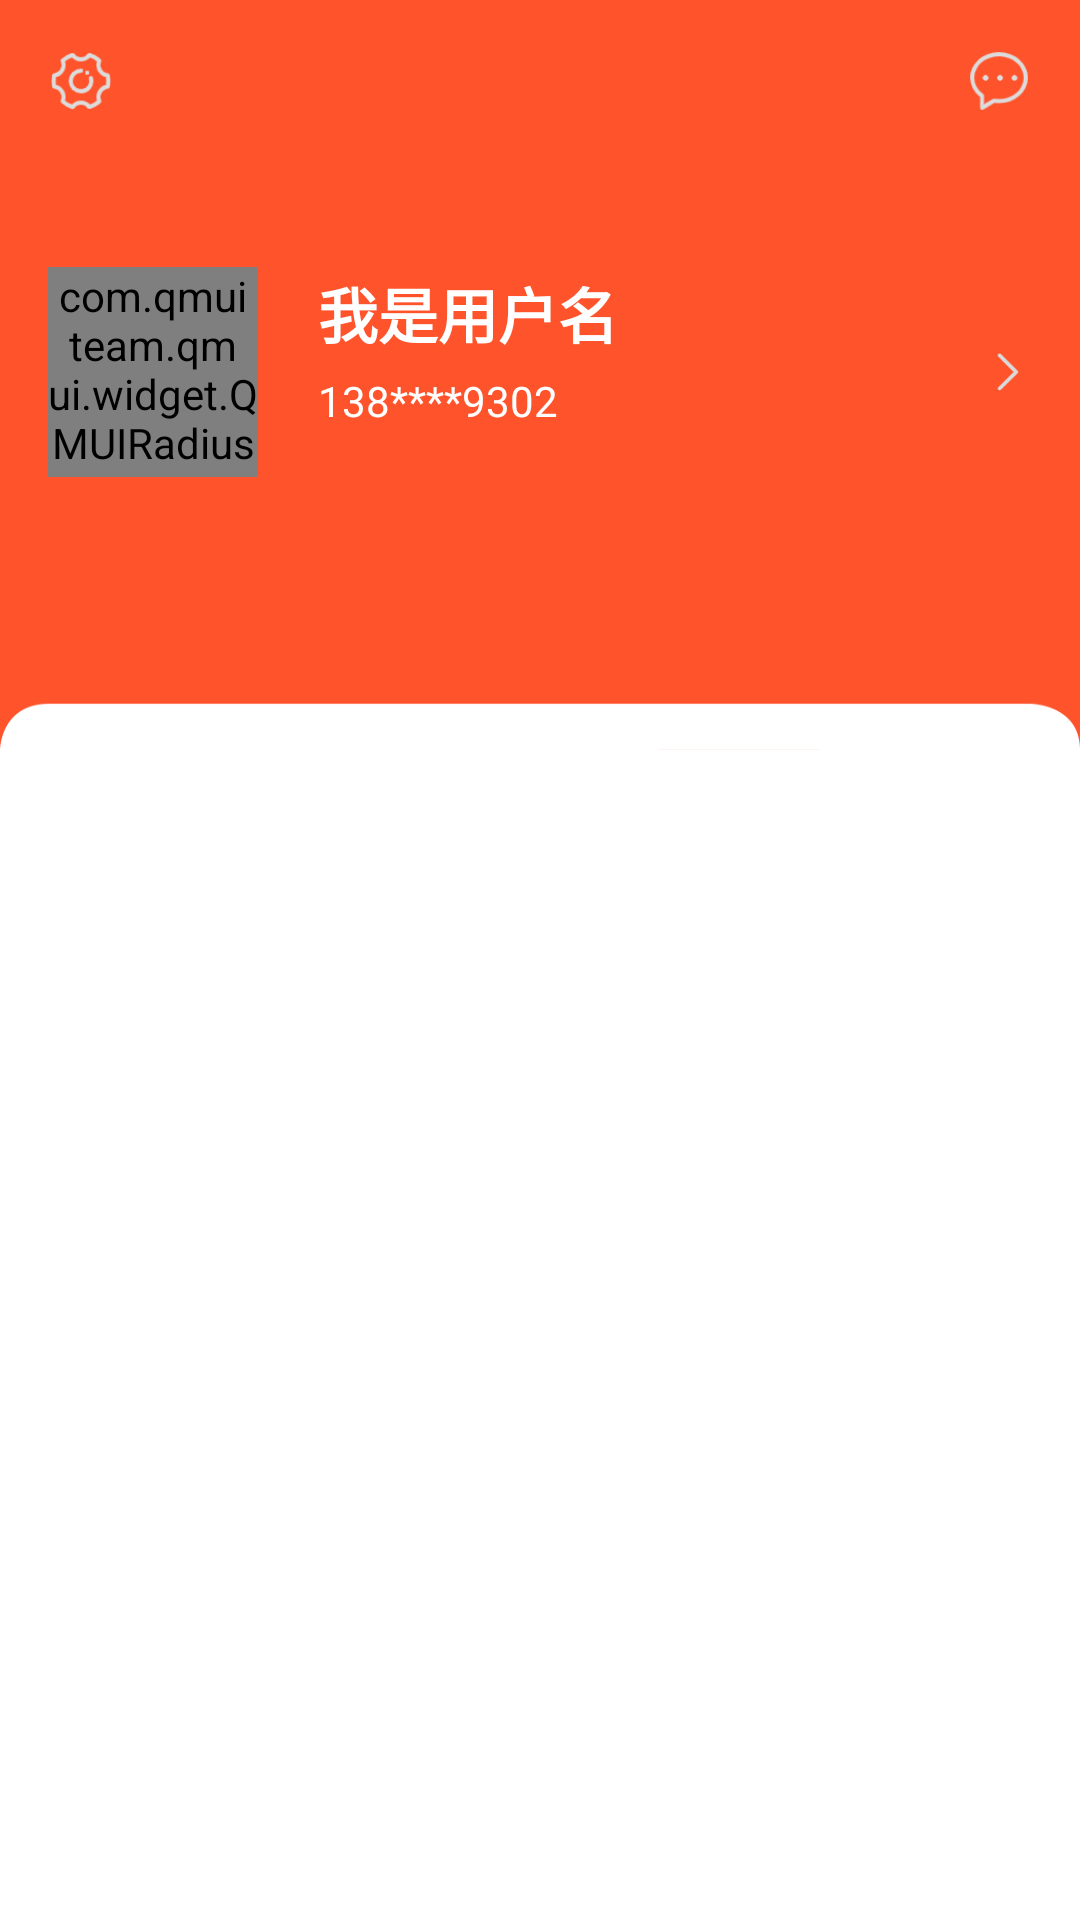

Screen size 1080px x 1920px. Icon name, then its box in pixels as (x1, y1, x2, y2):
enter: (997, 353, 1019, 391)
message: (970, 52, 1028, 110)
setting: (51, 53, 111, 110)
